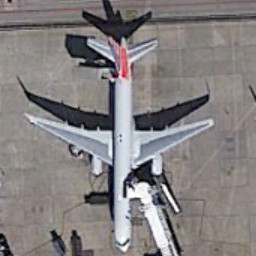Airplane: (14, 29, 221, 255)
